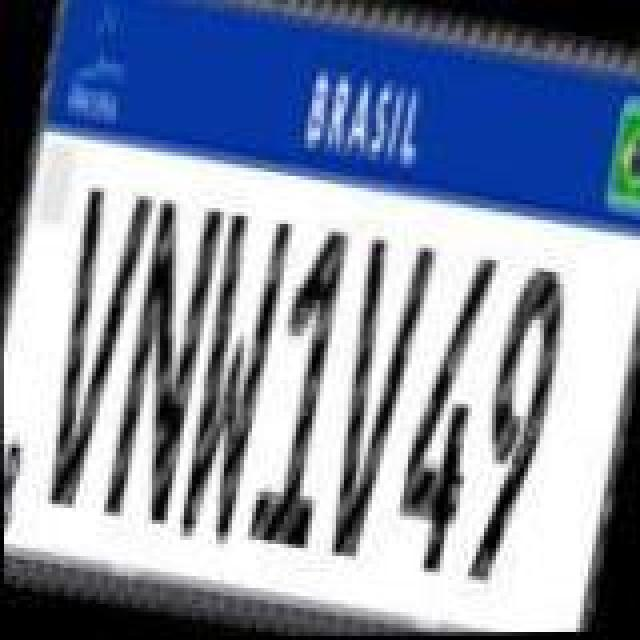1: (242, 220, 370, 556)
4: (380, 244, 504, 576)
9: (450, 254, 578, 598)
N: (94, 190, 230, 534)
V: (24, 182, 156, 518), (306, 232, 434, 568)
W: (162, 210, 298, 554)
